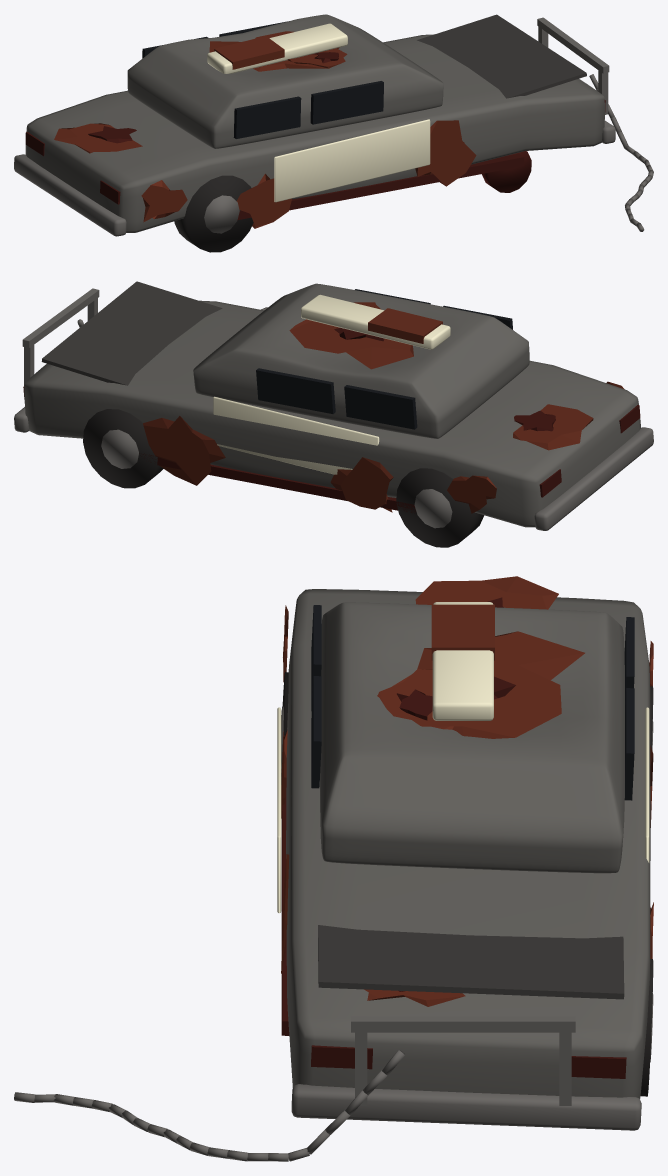
File: patrol.glb
The picture shows the model from 3 angles, top to bottom: view 1: azimuth 30°, elevation 25°; view 2: azimuth 150°, elevation 25°; view 3: azimuth 270°, elevation 25°; orthographic projection. The views are drawn at different scales.
Visible parts, largest first — view 1: body_low, cabin, door_white_-1, bonnet, tyre_-14_-7, bumper_-1, sill_rot, rust_side_0_-1, lightbar, window_-1_0, window_-1_-7, rust_side_1_-1 (+9 smaller); view 2: body_low, cabin, bonnet, tyre_-14_7, tyre_14_7, rust_side_0_1, door_white_1, bumper_-1, rust_0, lightbar, window_1_0, window_1_-7 (+9 smaller); view 3: body_low, cabin, bonnet, bumper_1, rust_0, lightbar, pushbar_x, rust_2, lens_red, rust_1, lamp_1_1, window_-1_0 (+7 smaller).
Boxes of the visible parts, left/top/right/bottom form: body_low: left=25, top=34, right=604, bottom=232; cabin: left=127, top=14, right=443, bottom=148; door_white_-1: left=274, top=119, right=430, bottom=202; bonnet: left=417, top=14, right=586, bottom=98; tyre_-14_-7: left=174, top=175, right=253, bottom=252; bumper_-1: left=14, top=154, right=126, bottom=236; sill_rot: left=237, top=153, right=524, bottom=220; rust_side_0_-1: left=415, top=120, right=476, bottom=186; lightbar: left=207, top=23, right=347, bottom=73; window_-1_0: left=310, top=81, right=383, bottom=124; window_-1_-7: left=233, top=96, right=301, bottom=138; rust_side_1_-1: left=236, top=173, right=292, bottom=228; body_low: left=24, top=300, right=640, bottom=527; cabin: left=193, top=283, right=529, bottom=438; bonnet: left=41, top=281, right=222, bottom=385; tyre_-14_7: left=396, top=468, right=484, bottom=547; tyre_14_7: left=83, top=409, right=163, bottom=488; rust_side_0_1: left=143, top=416, right=225, bottom=485; door_white_1: left=213, top=396, right=379, bottom=474; bumper_-1: left=534, top=427, right=653, bottom=530; rust_0: left=289, top=305, right=413, bottom=369; lightbar: left=301, top=294, right=450, bottom=349; window_1_0: left=256, top=368, right=335, bottom=413; window_1_-7: left=344, top=385, right=417, bottom=429; body_low: left=286, top=589, right=650, bottom=1098; cabin: left=319, top=602, right=624, bottom=873; bonnet: left=318, top=925, right=624, bottom=999; bumper_1: left=291, top=1084, right=641, bottom=1130; rust_0: left=377, top=631, right=584, bottom=738; lightbar: left=432, top=602, right=493, bottom=720; pushbar_x: left=351, top=1016, right=575, bottom=1032; rust_2: left=415, top=576, right=558, bottom=609; lens_red: left=431, top=604, right=494, bottom=660; rust_1: left=378, top=669, right=453, bottom=729; lamp_1_1: left=571, top=1056, right=626, bottom=1078; window_-1_0: left=311, top=676, right=321, bottom=788.
Bounding box in the file's own units: 5.02 × 1.55 × 3.13.
